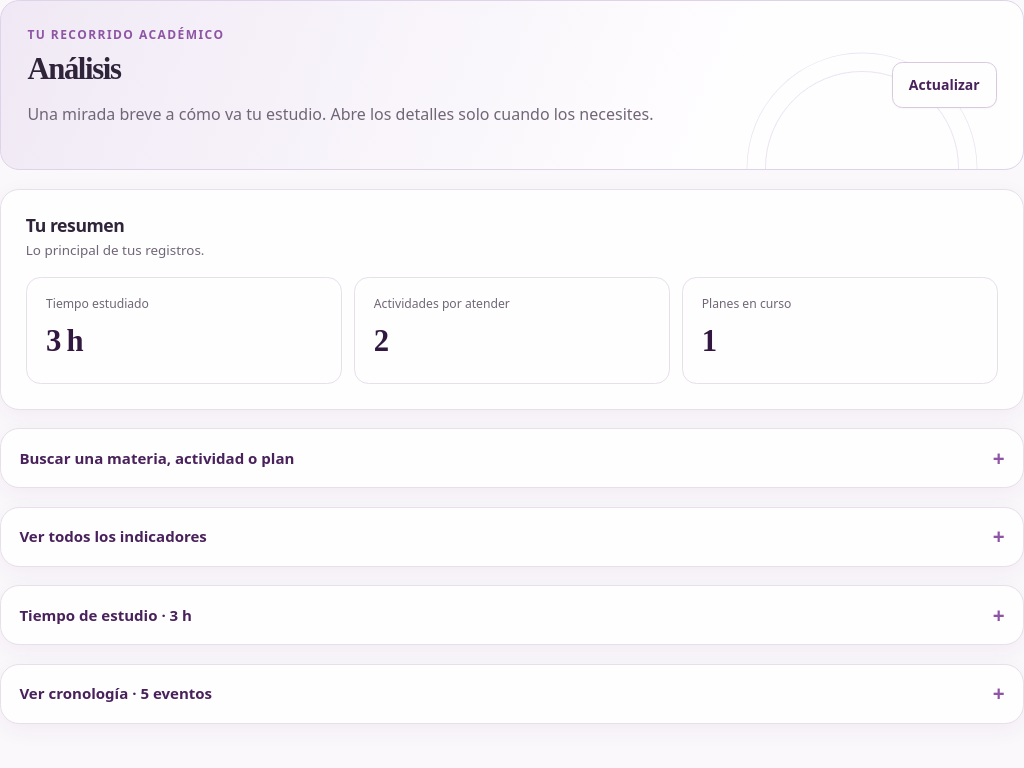
it: AnalyticsPage › renders decisions, plans and challenges from the timeline contract
Click the heading "Ver cronología · 5 eventos" at coordinates (116, 693), box 19,683 -> 212,703
(page scrolled)
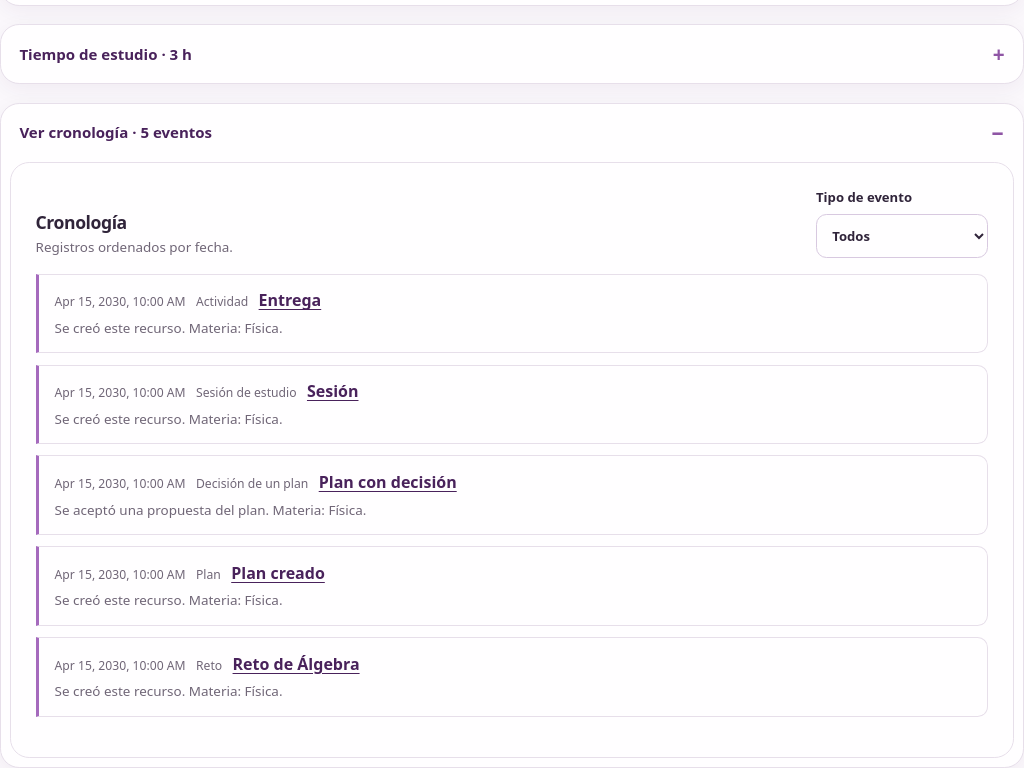
Check: the text "Se aceptó una propuesta del plan. Materia: Física." is shown, box 55,501 -> 366,519
